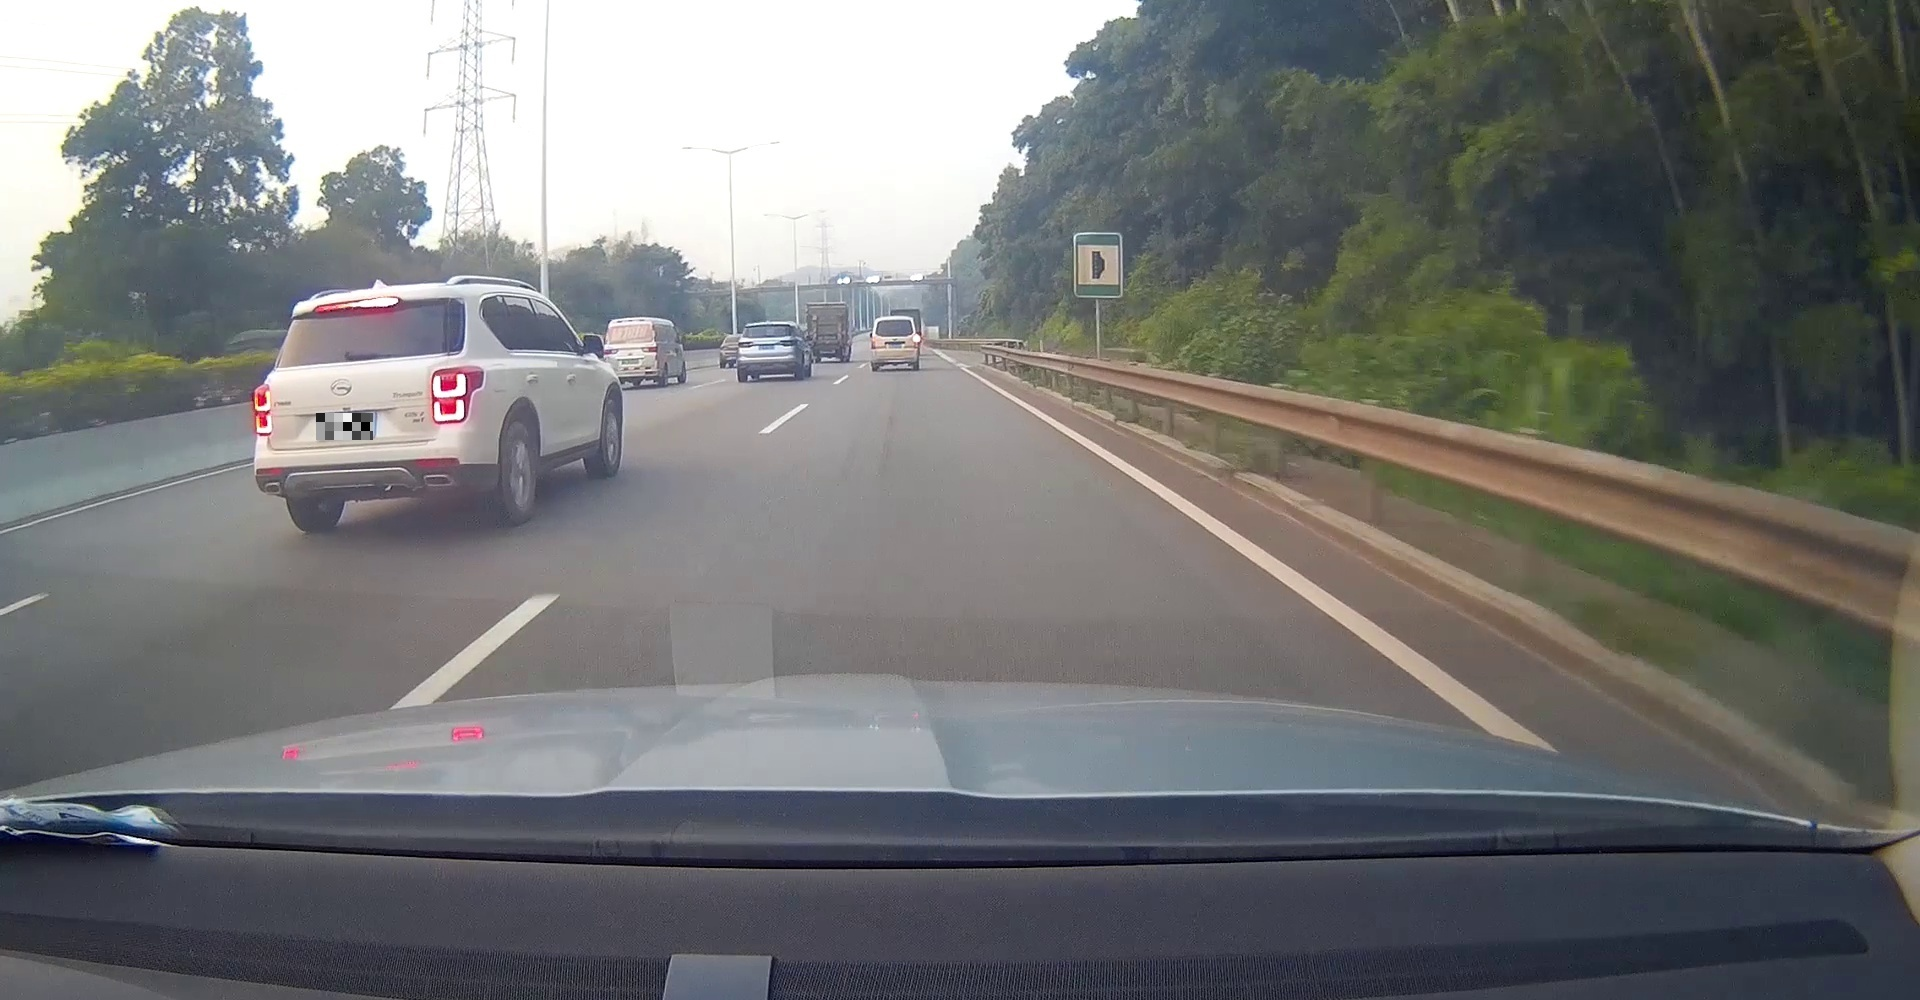L_light: (251, 382, 274, 437)
R_light: (429, 364, 486, 425)
T_light: (311, 296, 400, 313)
day-brake: (249, 284, 491, 533)
plate_1: (316, 412, 373, 440)
